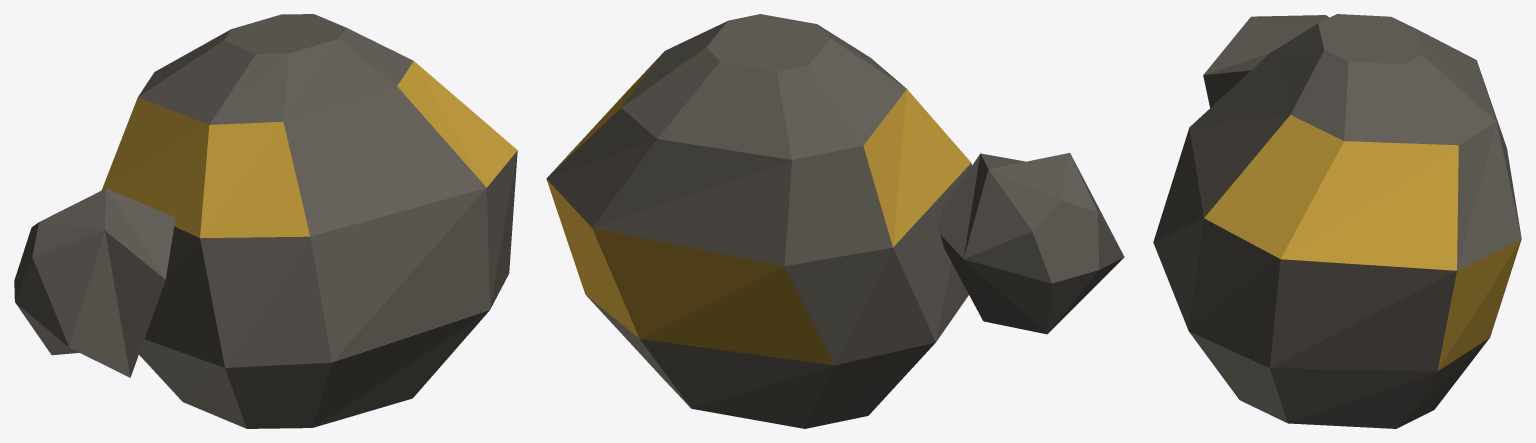
Rendered from raw_gold.gltf.
3 renders of one model, left to right at view 1: azimuth 30°, elevation 25°; view 2: azimuth 150°, elevation 25°; view 3: azimuth 270°, elevation 25°, orthographic.
Parts seen in each view (by area): view 1: raw_gold; view 2: raw_gold; view 3: raw_gold.
Part boxes in pixels (x1,y1,x2,y2): raw_gold: (14,14,517,428); raw_gold: (546,14,1124,428); raw_gold: (1153,14,1521,428).
Bounding box in the file's own units: 0.259 × 0.1806 × 0.1703.
